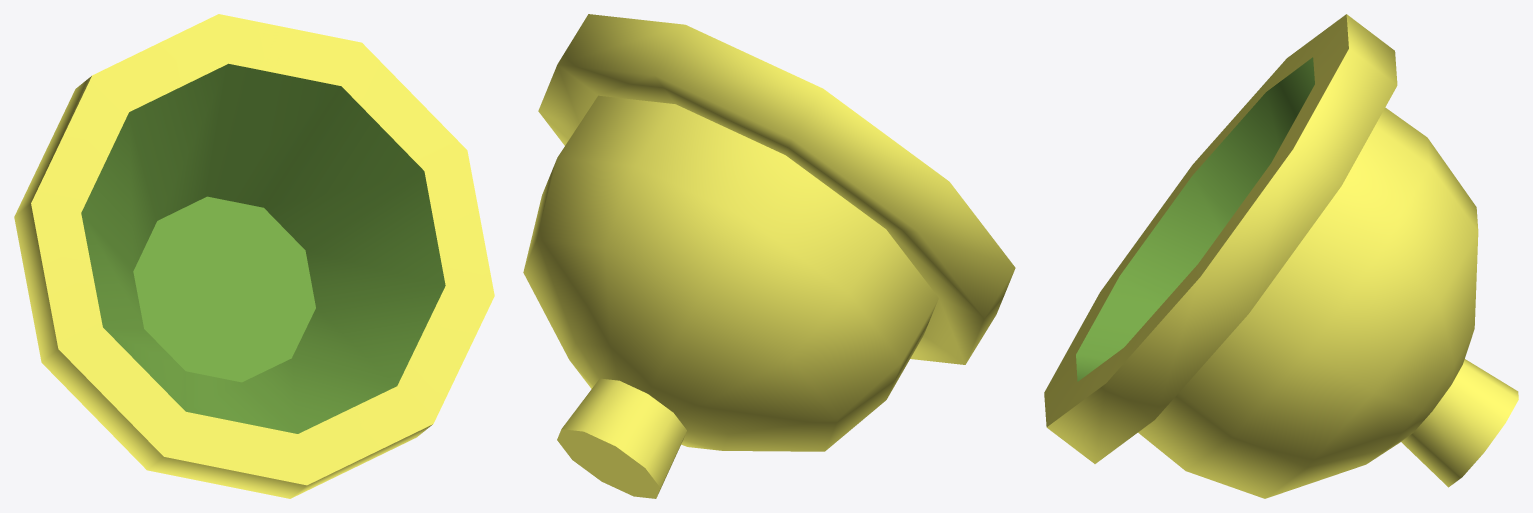
File: FirstHook.fbx
3 renders of one model, left to right at view 1: azimuth 30°, elevation 25°; view 2: azimuth 150°, elevation 25°; view 3: azimuth 270°, elevation 25°, orthographic. The views are drawn at different scales.
Visible parts, largest first — view 1: FirstHook; view 2: FirstHook; view 3: FirstHook.
Part boxes in pixels (x1=…): FirstHook: x1=14, y1=14, x2=494, y2=498; FirstHook: x1=523, y1=14, x2=1015, y2=498; FirstHook: x1=1044, y1=14, x2=1518, y2=498.
Size of the model in its own units: 20.24 by 19.15 by 18.77.
